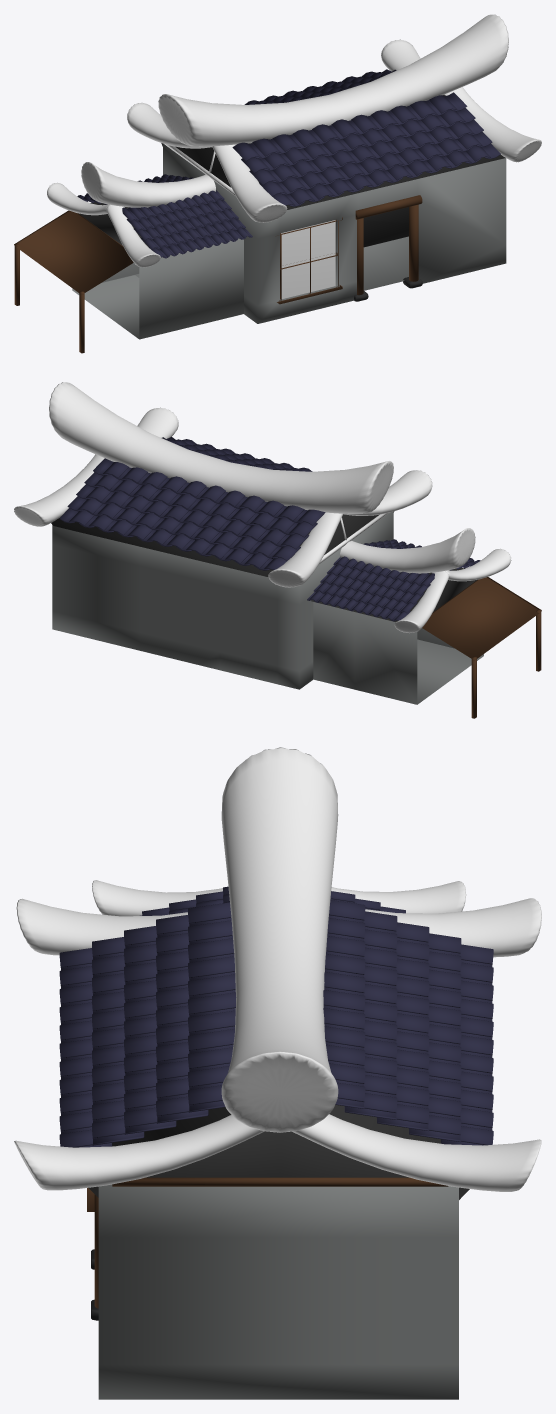
Rendered from house1.1.fbx.
3 views of the same model, one above another, from view 1: azimuth 30°, elevation 25°; view 2: azimuth 150°, elevation 25°; view 3: azimuth 270°, elevation 25° (orthographic). The views are drawn at different scales.
Visible parts, largest first — view 1: 平面, 平面.005, 柱体, 平面.001, 平面.002, 平面.006, 立方体, 柱体.021, 立方体.009, 柱体.010, 柱体.011, 柱体.012 (+8 smaller); view 2: 平面, 平面.004, 柱体, 平面.001, 平面.002, 平面.003, 柱体.021, 立方体.009, 柱体.012, 柱体.009, 柱体.010, 平面.005 (+5 smaller); view 3: 平面, 柱体, 平面.005, 平面.004, 柱体.009, 立方体.009, 柱体.011, 柱体.012, 柱体.010, 立方体.013, 柱体.024, 柱体.023 (+1 smaller).
Boxes of the visible parts, x1,y1,x2,y2 form: 平面: (163,143,506,323); 平面.005: (232,92,500,206); 柱体: (158,14,508,146); 平面.001: (72,238,243,339); 平面.002: (14,210,133,292); 平面.006: (122,190,252,258); 立方体: (281,220,335,298); 柱体.021: (81,162,215,207); 立方体.009: (161,94,505,247); 柱体.010: (212,144,287,222); 柱体.011: (444,87,541,162); 柱体.012: (127,103,211,148); 平面: (52,511,393,689); 平面.004: (59,458,325,570); 柱体: (49,382,393,513); 平面.001: (313,602,483,704); 平面.002: (422,577,541,660); 平面.003: (307,556,434,621); 柱体.021: (340,528,475,573); 立方体.009: (51,511,394,576); 柱体.012: (268,512,343,587); 柱体.009: (14,454,104,526); 柱体.010: (343,470,432,515); 平面.005: (162,437,312,471); 平面: (98,1184,458,1399); 柱体: (221,747,338,1132); 平面.005: (59,902,236,1147); 平面.004: (323,900,493,1145); 柱体.009: (292,1114,541,1191); 立方体.009: (88,1105,469,1199); 柱体.011: (14,1115,264,1190); 柱体.012: (365,898,541,957); 柱体.010: (16,898,187,955); 立方体.013: (112,1177,448,1186); 柱体.024: (331,881,466,913); 柱体.023: (92,880,222,916).
Bounding box in the file's own units: 1019 × 436 × 541.
